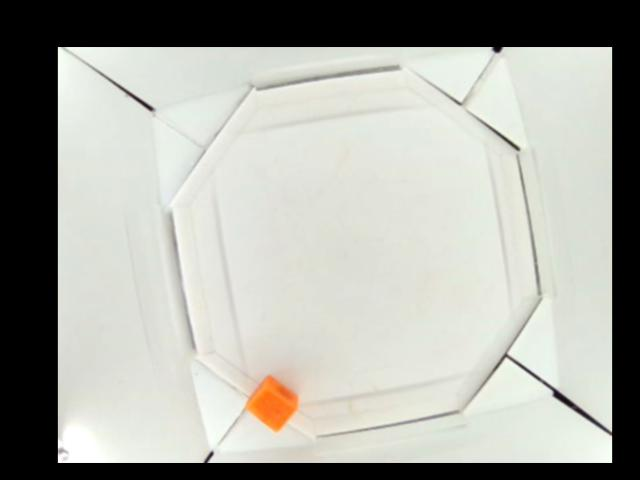Carrot: (248, 374, 300, 433)
